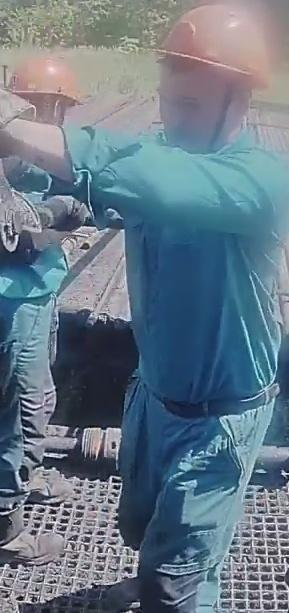gloves: (0, 85, 43, 164)
helmet: (154, 3, 276, 91), (8, 55, 88, 109)
vest: (121, 136, 273, 401)
